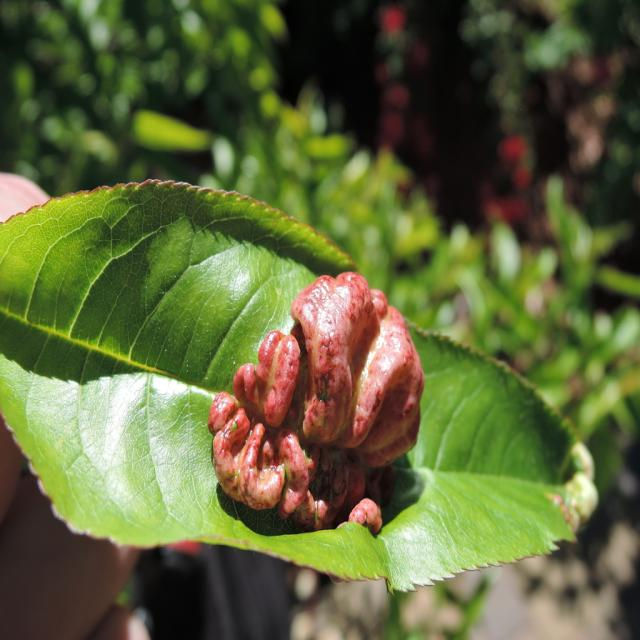peach_leaf_curl: (1, 174, 598, 595), (206, 269, 425, 534)
